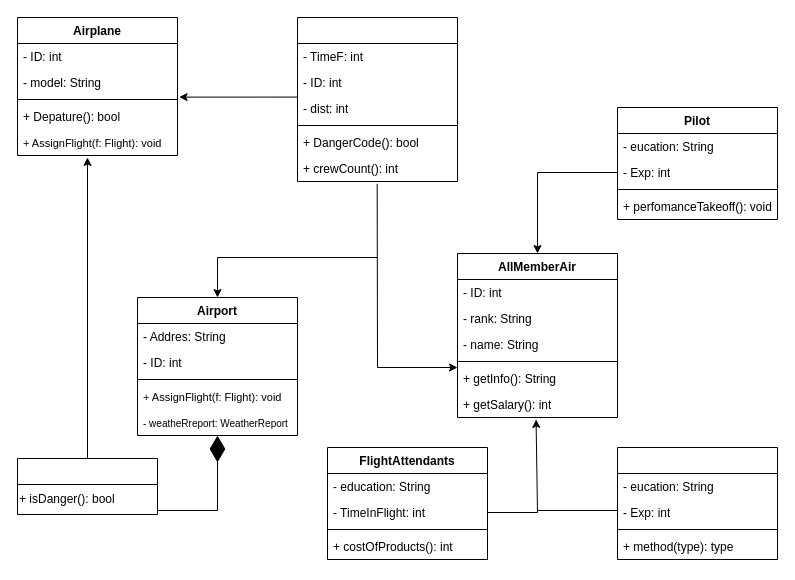
This 795x580 diagram has some shape labels left out. Each missing label, with the box of its shape:
Flight: (296, 16, 458, 182)
SecodPilot: (616, 446, 778, 560)
WeatherReport: (16, 458, 158, 514)
